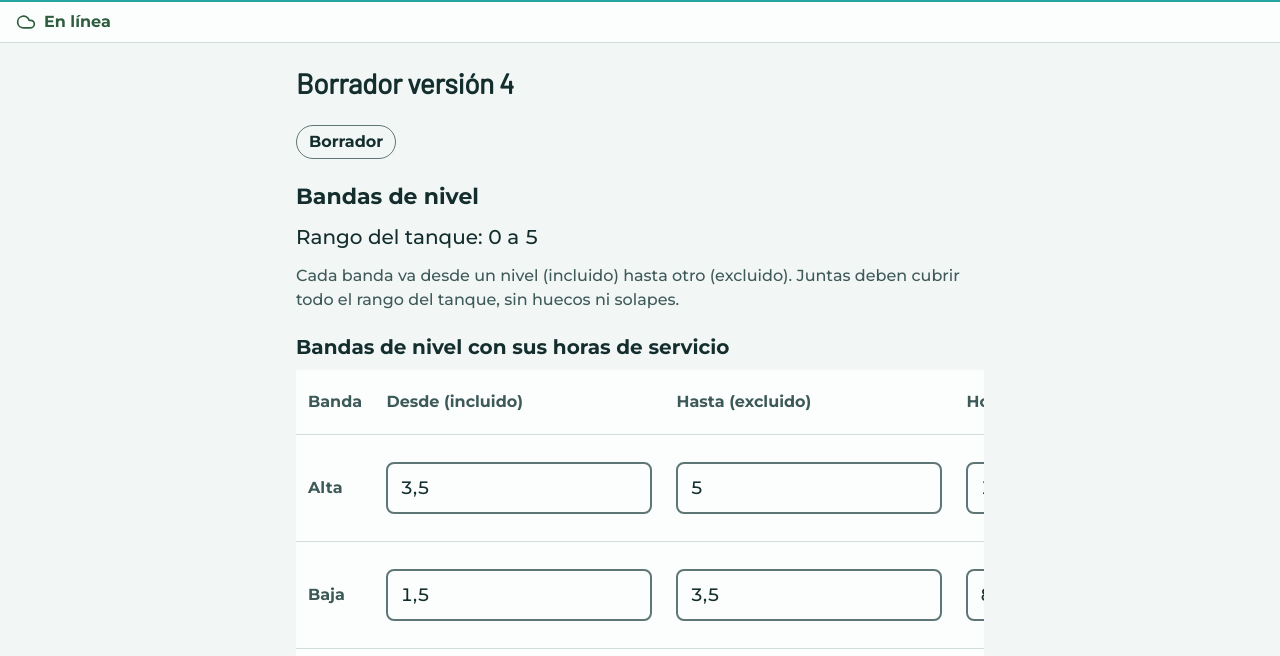
Scenario: BandsEditor › marks the field whose top is not above its bottom
The width and height of the screenshot is (1280, 656).
Replace the text in the 5th field with "1" at (810, 595), box [676,569,942,621]
(page scrolled)
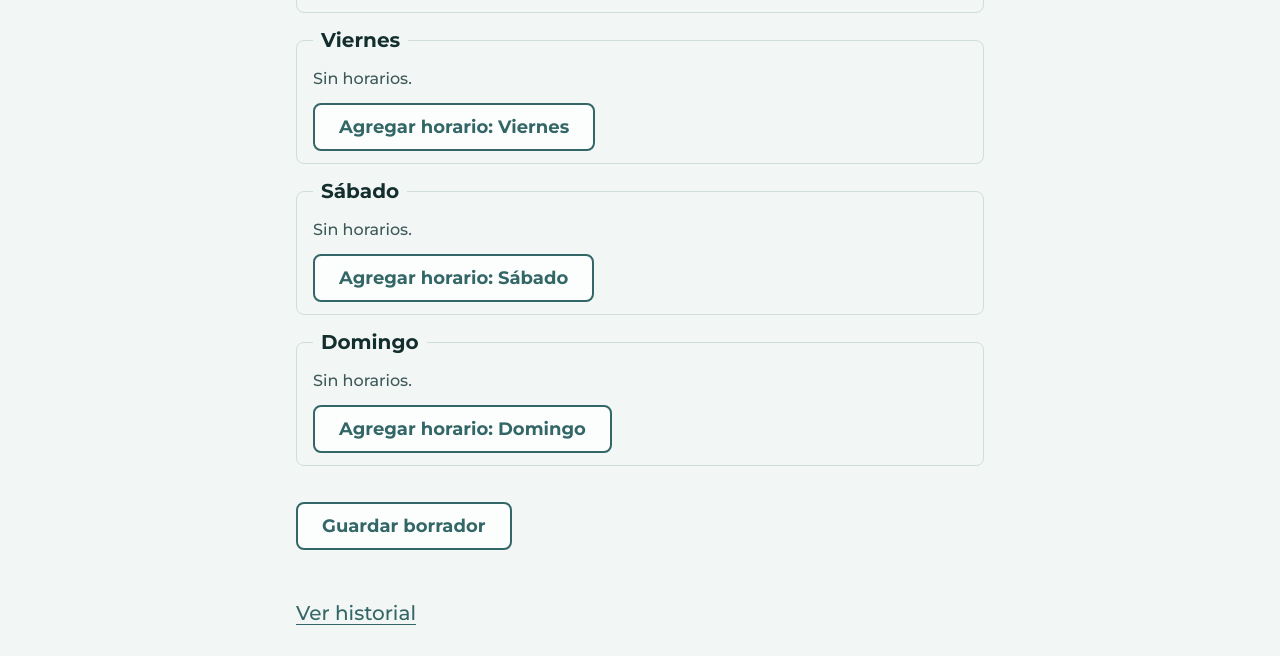
Click the button "Guardar borrador" at (404, 526), box [296,502,512,550]
(page scrolled)
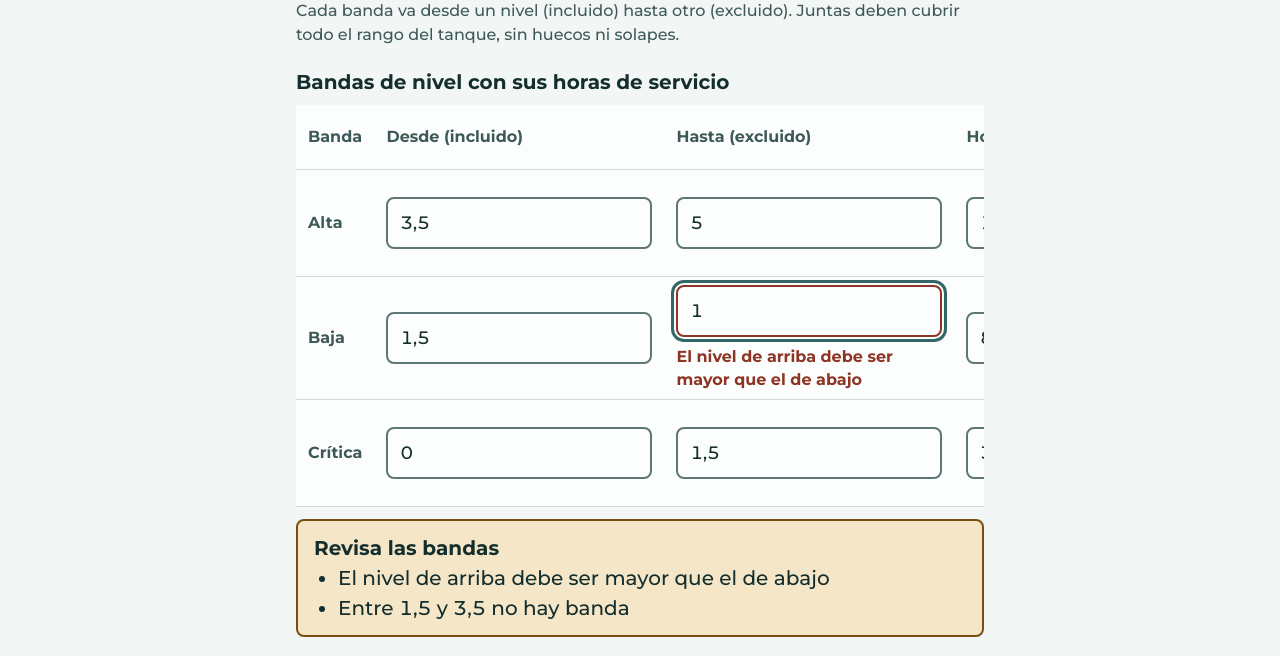
Now the text "El nivel de arriba debe ser mayor que el de abajo" is shown, box [676,347,893,389]
